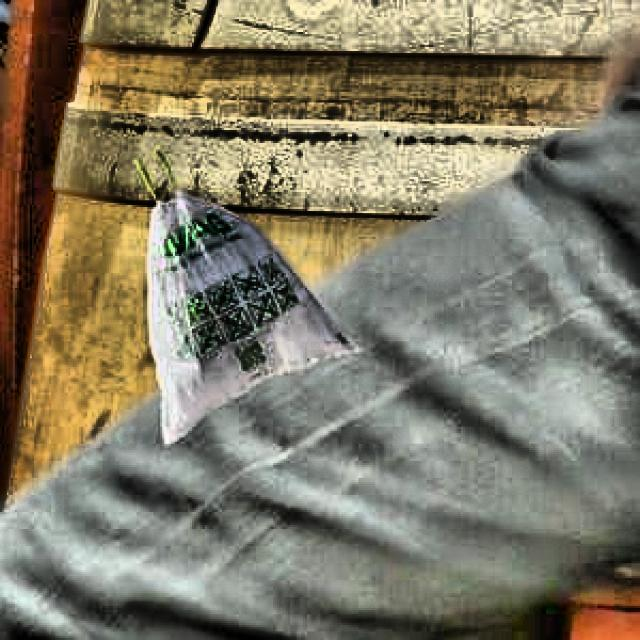Plastic: (113, 146, 370, 458)
